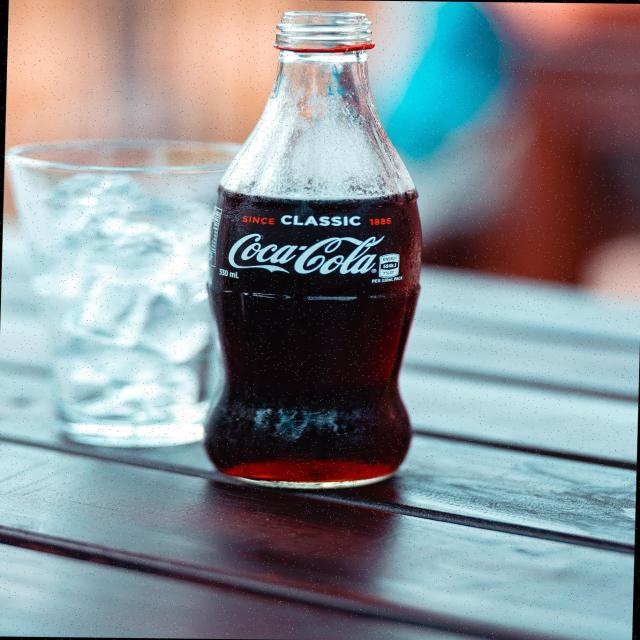coca-cola: (222, 228, 396, 280)
